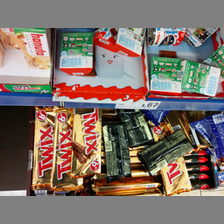chocolate: (72, 109, 102, 180), (143, 132, 193, 171), (101, 117, 132, 177), (51, 110, 73, 186), (33, 108, 53, 191), (59, 31, 95, 76), (178, 57, 218, 94), (149, 57, 185, 93)
